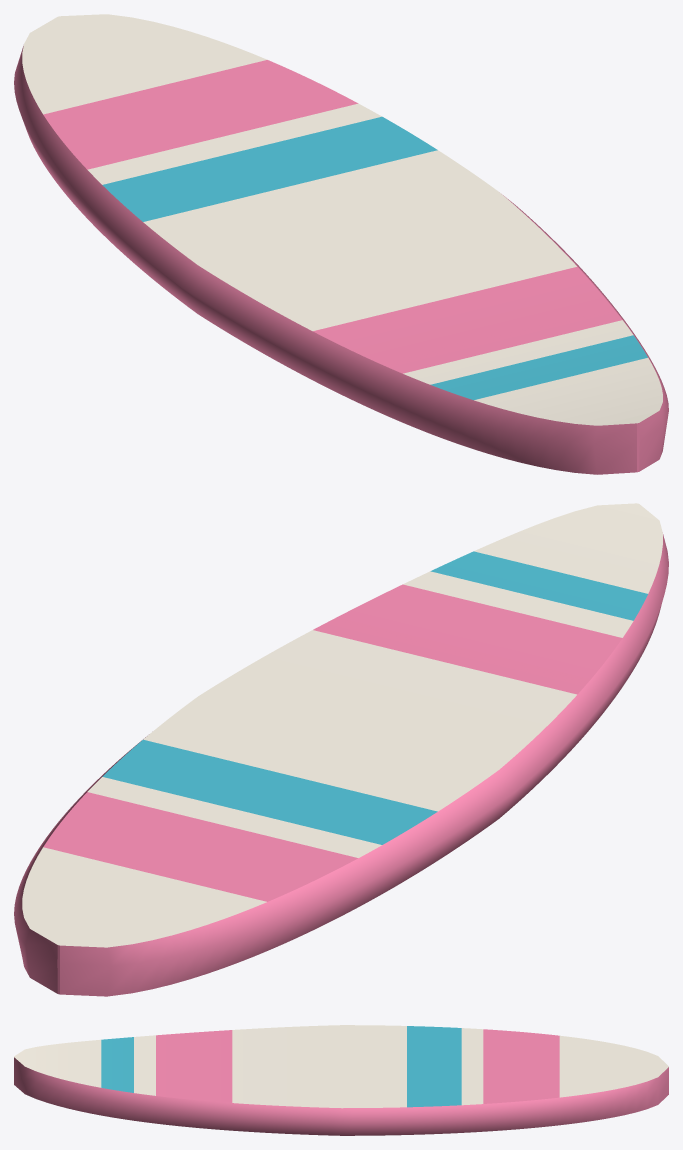
The model's file is surfboard.glb.
The picture shows the model from 3 angles, top to bottom: view 1: azimuth 30°, elevation 25°; view 2: azimuth 150°, elevation 25°; view 3: azimuth 270°, elevation 25°; orthographic projection. The views are drawn at different scales.
Visible parts, largest first — view 1: Shortboard; view 2: Shortboard; view 3: Shortboard.
Boxes of the visible parts, <box> form: Shortboard: <box>14,14,668,474</box>; Shortboard: <box>14,503,668,996</box>; Shortboard: <box>14,1025,668,1135</box>.
Bounding box in the file's own units: 0.5 × 0.095 × 1.5.
